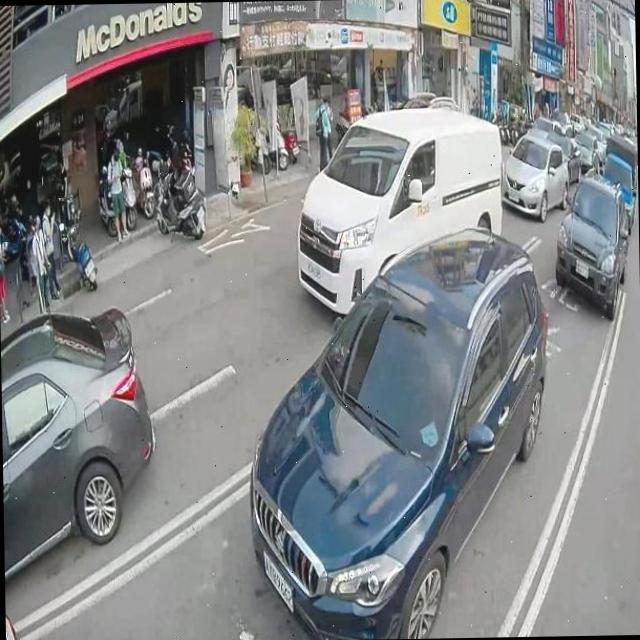person: (28, 212, 52, 318), (106, 149, 129, 244), (40, 201, 60, 298), (314, 96, 331, 170), (57, 152, 71, 220)
